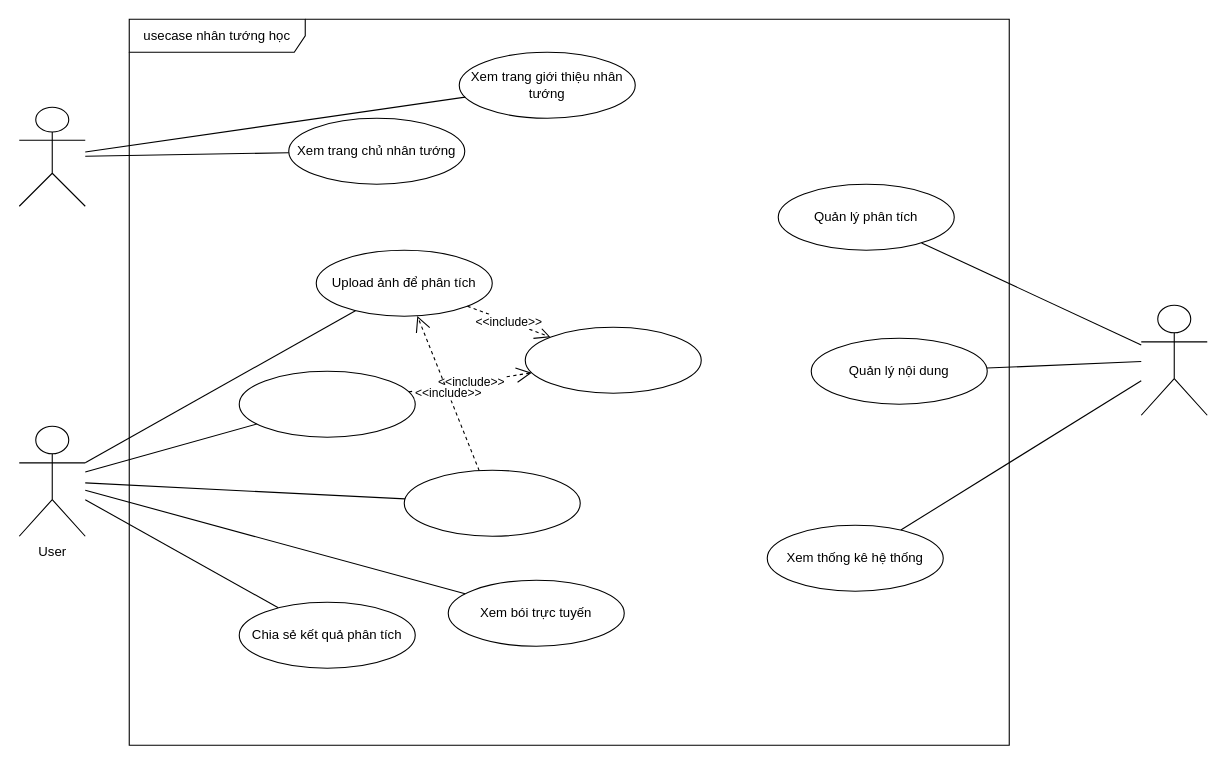
This 1227x765 diagram has some shape labels left out. The centre of each missing label's shape, as x and y in pixels:
Admin: (x=1173, y=359)
Guest: (x=51, y=156)
Xem kết quả phân tích: (x=612, y=359)
Xem lịch sử phân tích: (x=326, y=403)
Đổi ảnh phân tích mới: (x=491, y=502)
